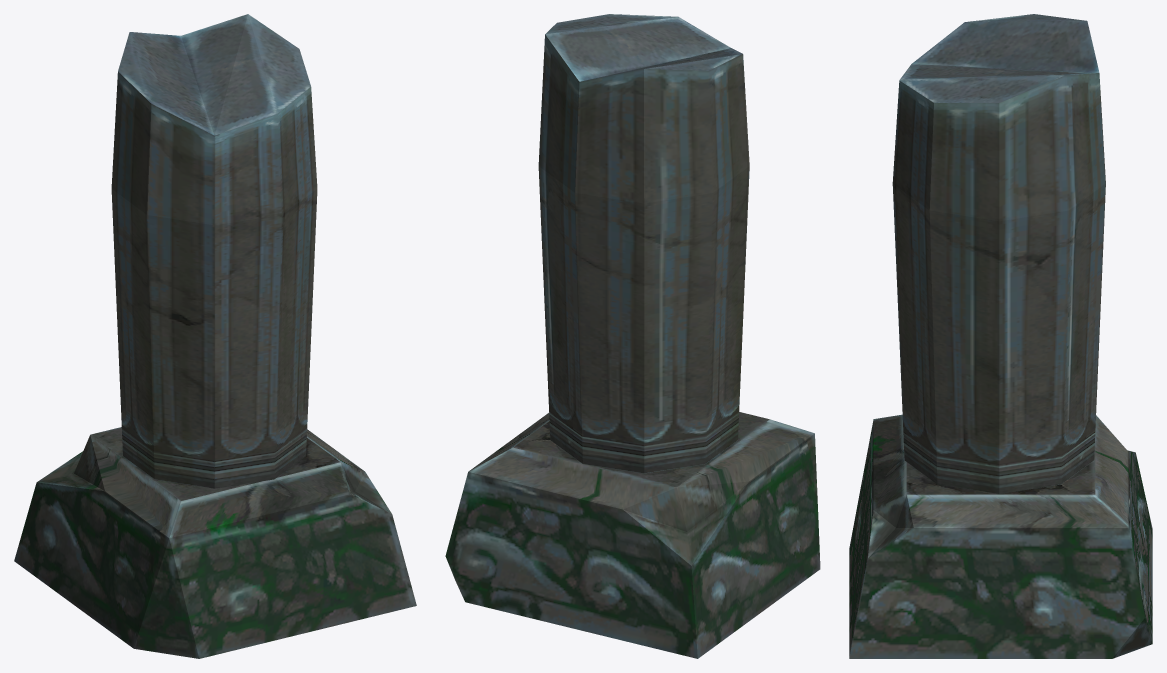
File: stemple_pillar_03.fbx
3 renders of one model, left to right at view 1: azimuth 30°, elevation 25°; view 2: azimuth 150°, elevation 25°; view 3: azimuth 270°, elevation 25°, orthographic. The views are drawn at different scales.
Visible parts, largest first — view 1: obj0.175; view 2: obj0.175; view 3: obj0.175.
Boxes of the visible parts, bbox=[...] form: obj0.175: bbox=[14, 14, 416, 658]; obj0.175: bbox=[445, 14, 820, 658]; obj0.175: bbox=[849, 14, 1152, 658].
Bounding box in the file's own units: 2.26 × 4.47 × 2.23.
